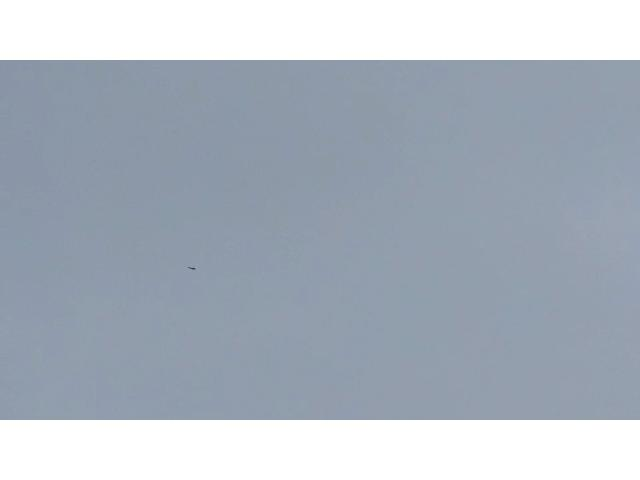Anti-Drone: (187, 265, 199, 273)
